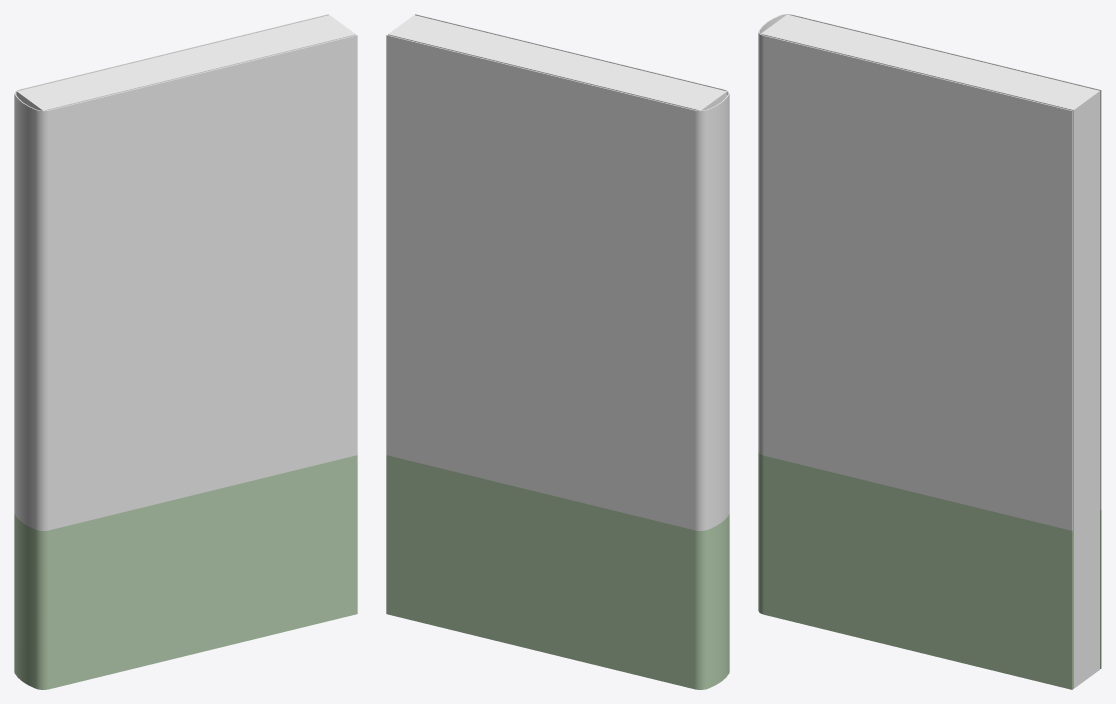
The model's file is 139_book.fbx.
3 views of the same model, side by side, from view 1: azimuth 30°, elevation 25°; view 2: azimuth 150°, elevation 25°; view 3: azimuth 330°, elevation 25° (orthographic).
Visible parts, largest first — view 1: 139_本(閉)(新書サイズ); view 2: 139_本(閉)(新書サイズ); view 3: 139_本(閉)(新書サイズ).
Part boxes in pixels (x1,y1,x2,y2): 139_本(閉)(新書サイズ): (14,14,357,689); 139_本(閉)(新書サイズ): (386,14,729,689); 139_本(閉)(新書サイズ): (758,14,1101,689).
Size of the model in its own units: 10.55 by 18.2 by 1.66.
